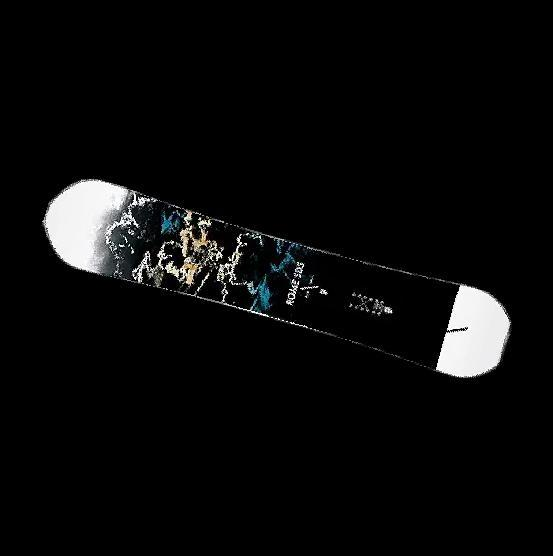Snowboard: (37, 169, 524, 404)
